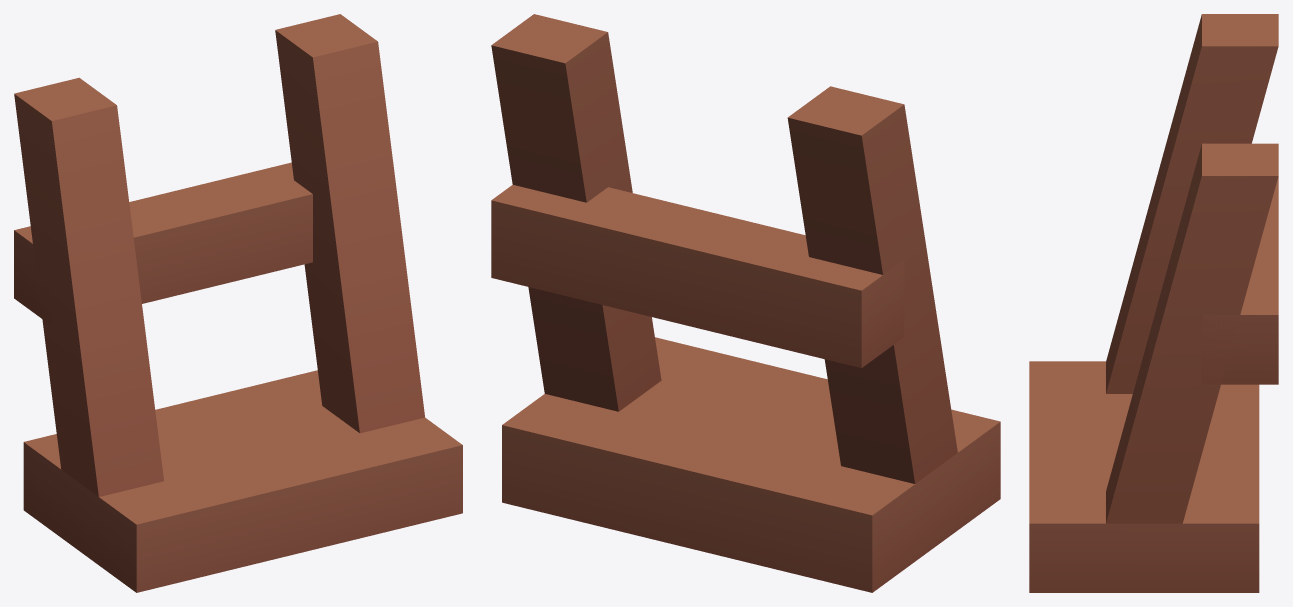
File: weaponrack.glb
3 views of the same model, side by side, from view 1: azimuth 30°, elevation 25°; view 2: azimuth 150°, elevation 25°; view 3: azimuth 270°, elevation 25° (orthographic). The views are drawn at different scales.
Visible parts, largest first — view 1: weaponrack; view 2: weaponrack; view 3: weaponrack.
Part boxes in pixels (x1,y1,x2,y2): weaponrack: (14, 14, 462, 592); weaponrack: (491, 14, 1000, 592); weaponrack: (1029, 14, 1278, 592).
Bounding box in the file's own units: 0.2 × 0.24 × 0.13.
Materials: 1 (1 with a texture image).
